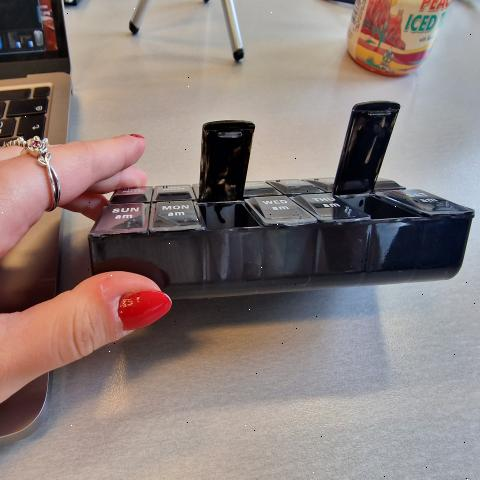Open: (333, 101, 426, 221), (201, 122, 259, 231)
